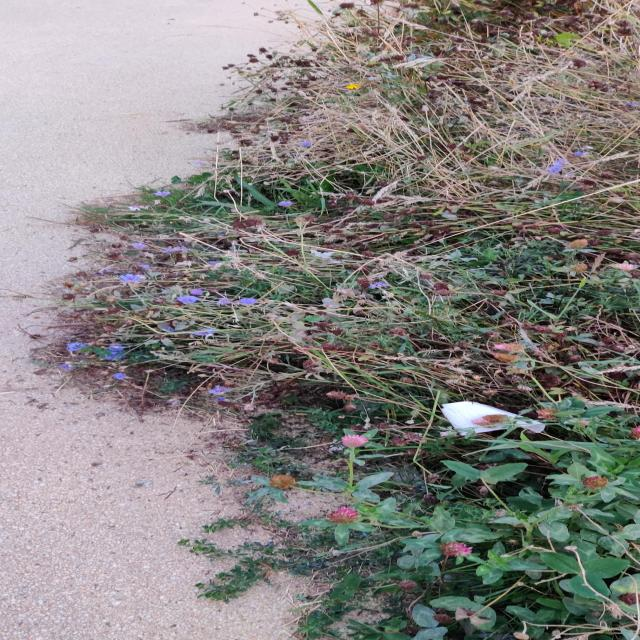litter: (438, 399, 548, 438)
